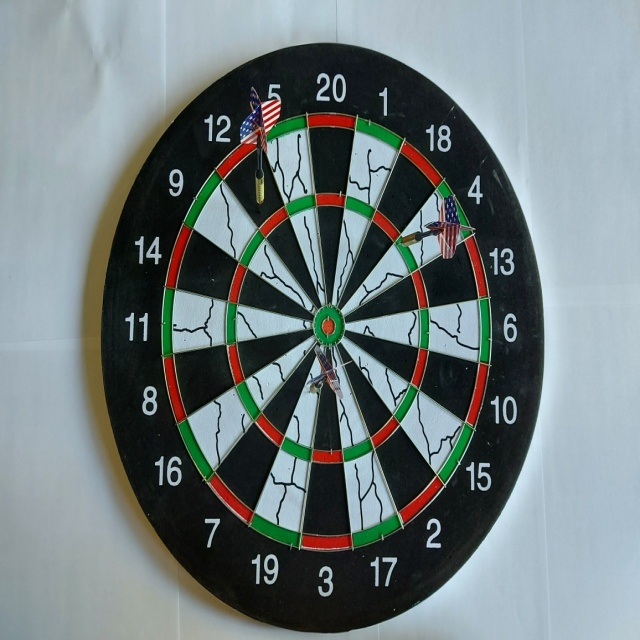Dart: (232, 82, 286, 217), (392, 191, 480, 265), (302, 340, 353, 405)
